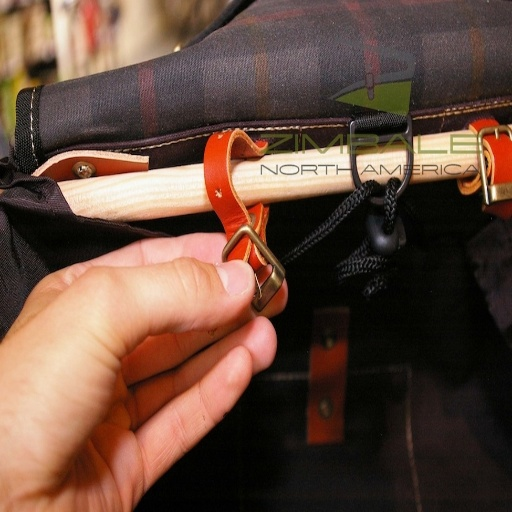hand: (0, 211, 262, 485)
